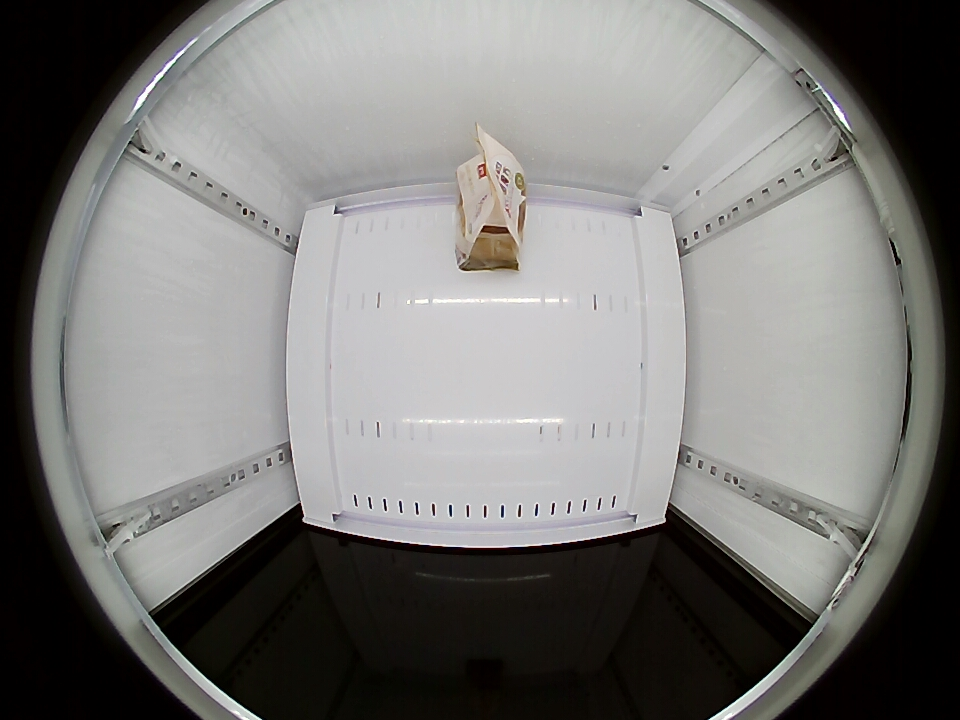zaocanmofang: (456, 138, 527, 267)
